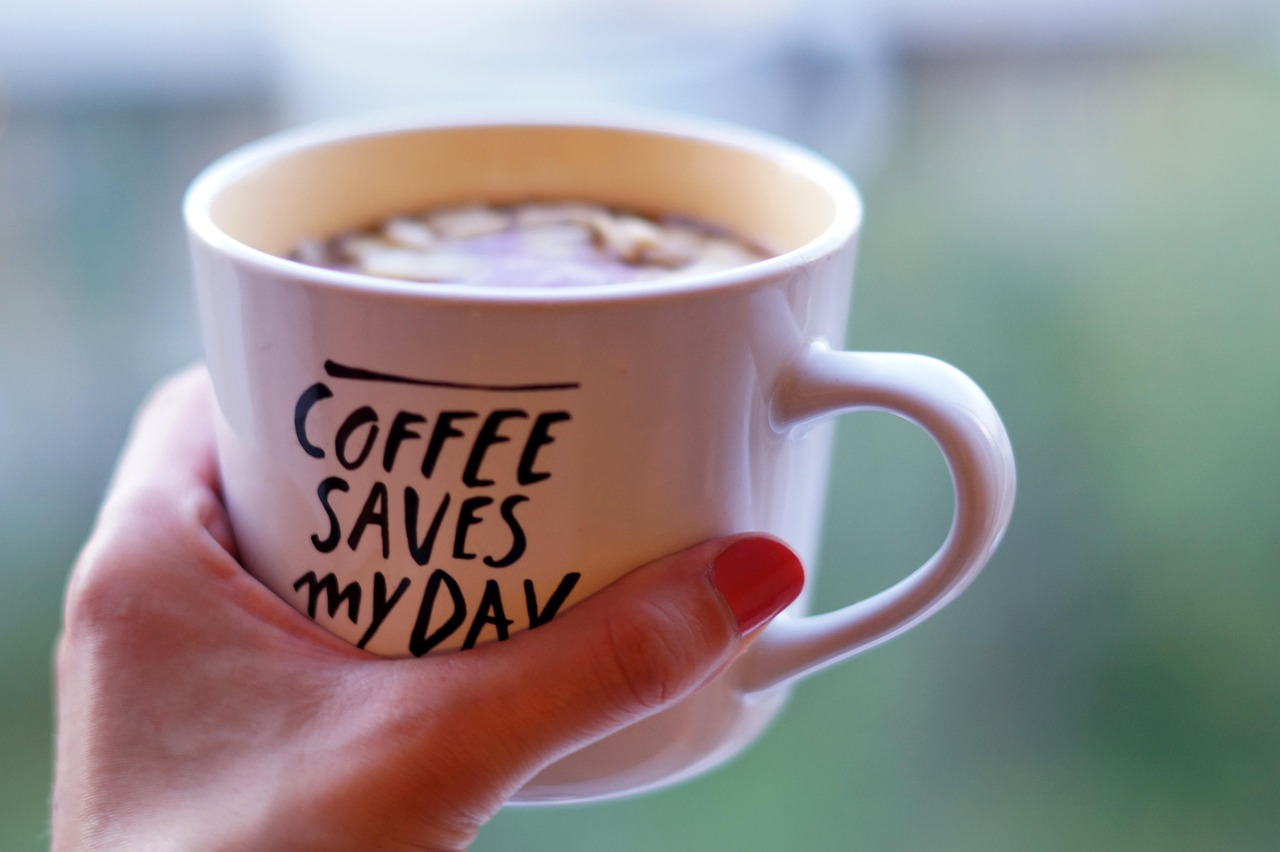mug: (162, 93, 1013, 812)
